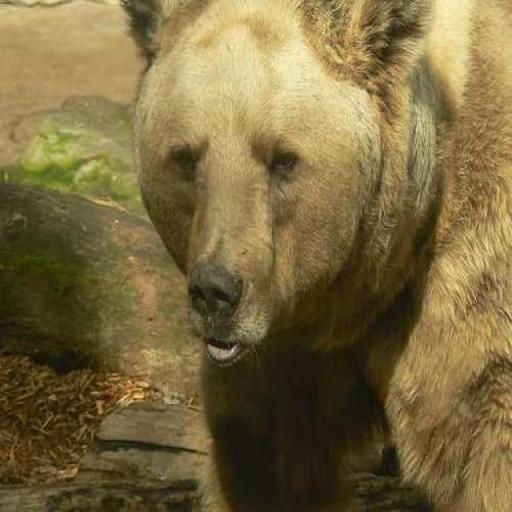Bear: (117, 0, 510, 510)
